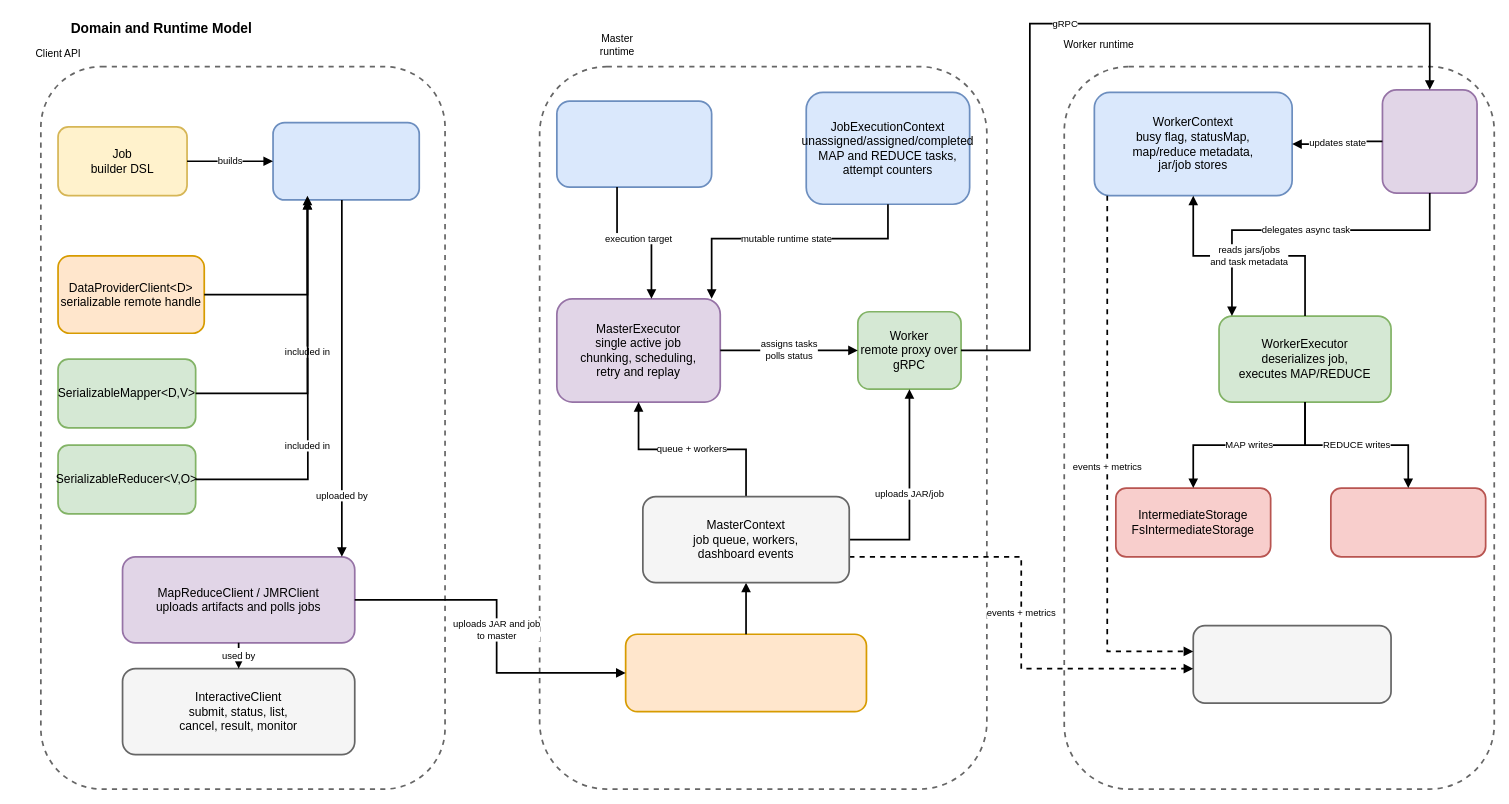
The diagram is 1509 pixels wide and 804 high, and some of its shapes have lost their labels. The centre of each missing label's shape, as x and y in pixels:
HTTP dashboards master + worker JSON views: pixel 1291 663
JobConfiguration<D,V,O> serialized payload: pixel 346 160
JobInfoInternal status, progress, paths, error, result bytes: pixel 634 143
MasterResourceDistributor forwards JAR/job to all workers: pixel 745 672
ReduceResultStorage FsReduceResultStorage: pixel 1408 522
WorkerServiceImpl ACK + async execution, status RPCs, cleanup: pixel 1429 141
